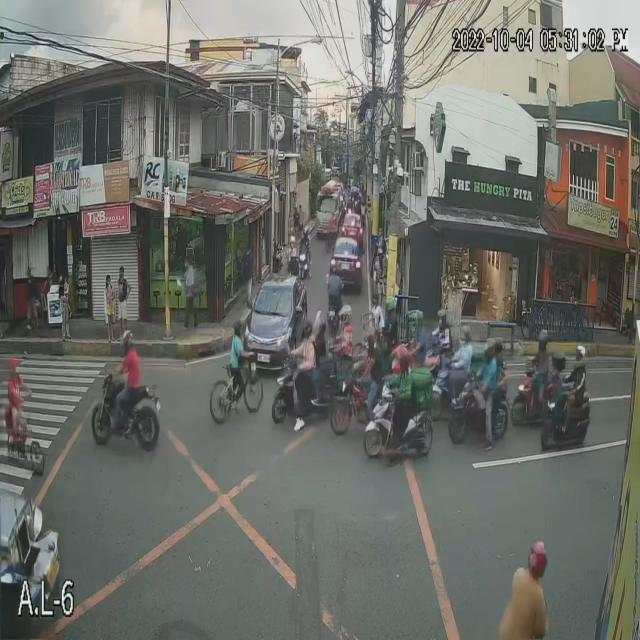Full-Faced: (518, 539, 546, 577), (377, 291, 401, 327), (394, 339, 414, 378), (571, 341, 593, 365), (438, 306, 454, 338), (120, 329, 136, 358), (536, 331, 552, 359), (407, 307, 419, 341), (300, 318, 312, 346), (343, 313, 356, 338), (235, 312, 246, 341), (482, 336, 493, 361), (460, 326, 472, 346), (301, 222, 314, 240), (331, 305, 342, 326), (289, 237, 300, 253), (493, 334, 501, 352)
Half-Faced: (12, 352, 21, 380)
